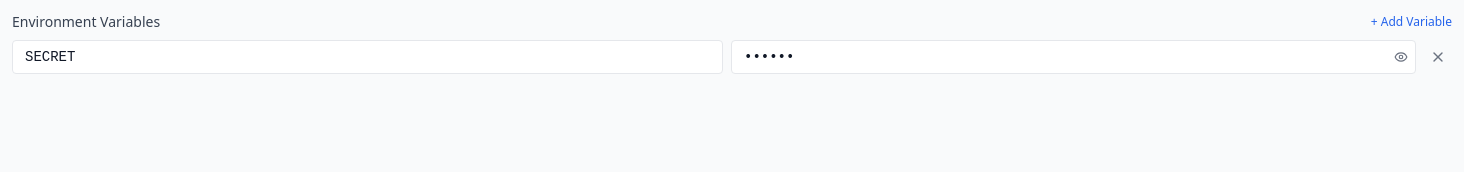
it: EnvVarEditor › reveals value on toggle click
Click the button with test id "env-reveal-0": (1401, 57) x1=1394 y1=50 x2=1408 y2=64
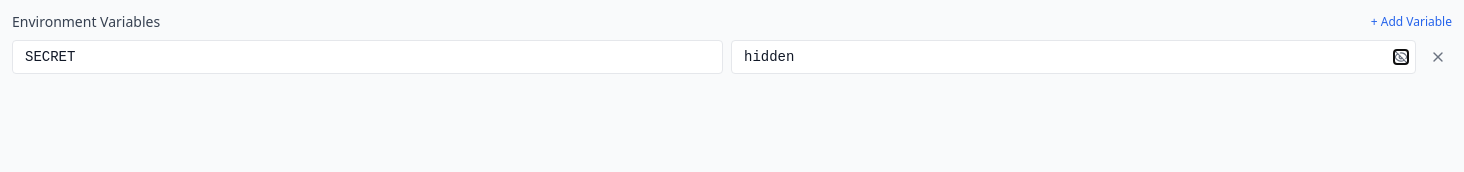
expect the field with test id "env-value-0" shows its text: met, box x1=731 y1=40 x2=1416 y2=74
